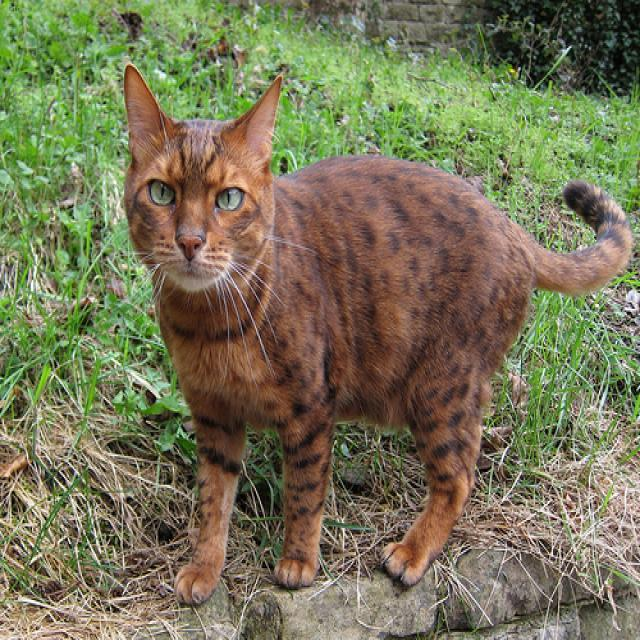Bengal: (120, 55, 292, 295)
